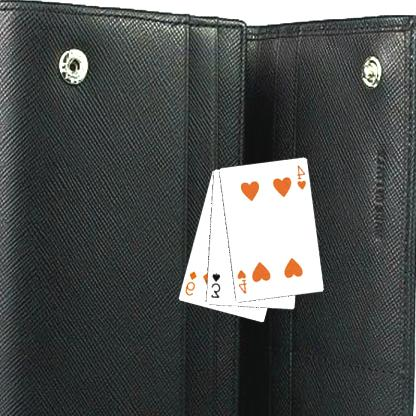3S: (210, 270, 223, 300)
4H: (235, 268, 250, 296), (296, 162, 310, 192)
6D: (184, 268, 200, 298)
